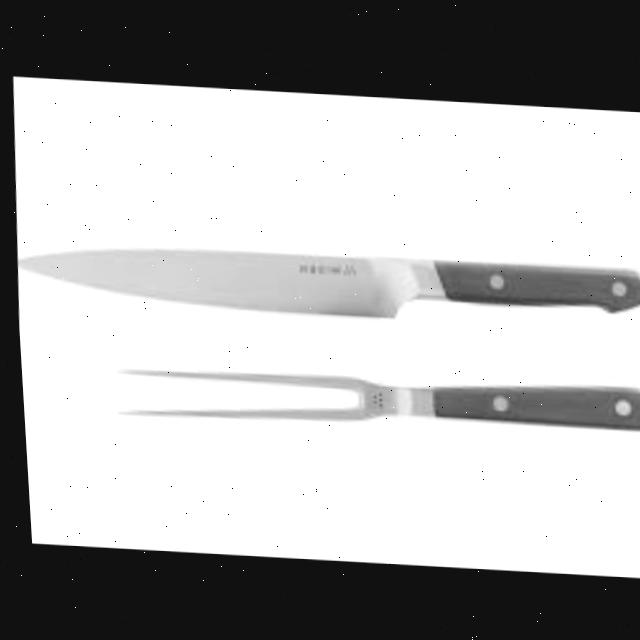Knife: (12, 230, 640, 329)
